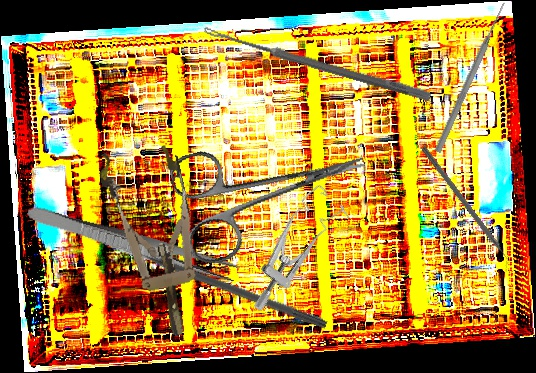Chopper: (414, 145, 516, 274)
Dressing Forceps: (24, 203, 241, 285)
Iris Scissors: (166, 111, 380, 269)
Pusher: (115, 238, 329, 330), (433, 0, 509, 154)
Speculum: (95, 137, 217, 345), (221, 180, 361, 315)
Surgical Spoon: (202, 25, 432, 102)
